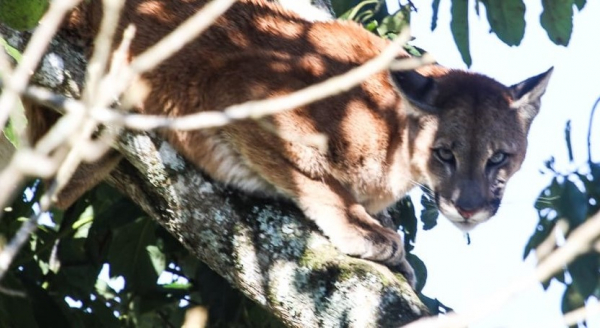OncaParda: (60, 1, 561, 282)
